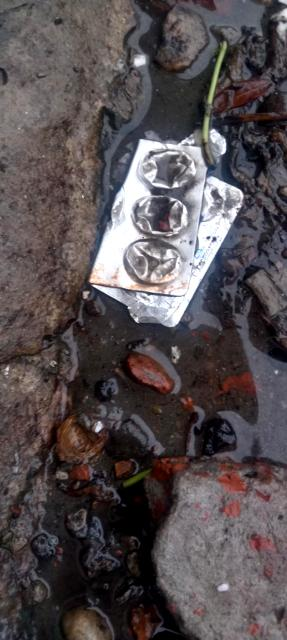medicine: (78, 137, 241, 328)
